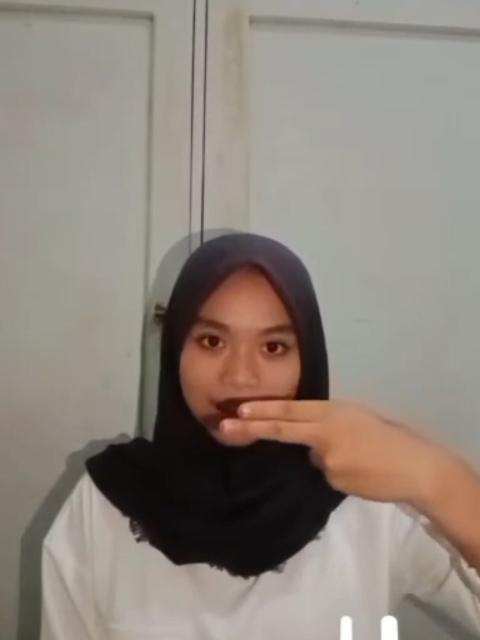H: (214, 394, 440, 502)
